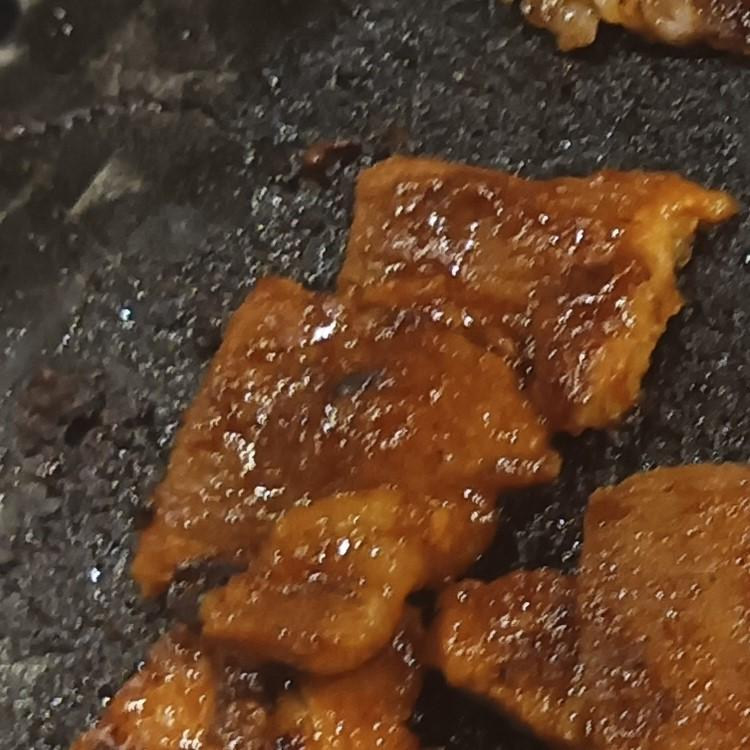Well-Cooked: (130, 155, 740, 749), (439, 468, 749, 749)
